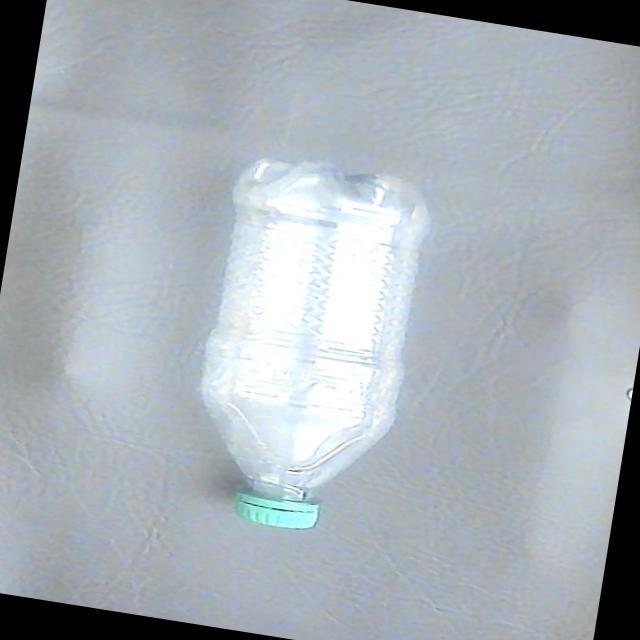good: (170, 146, 446, 547)
